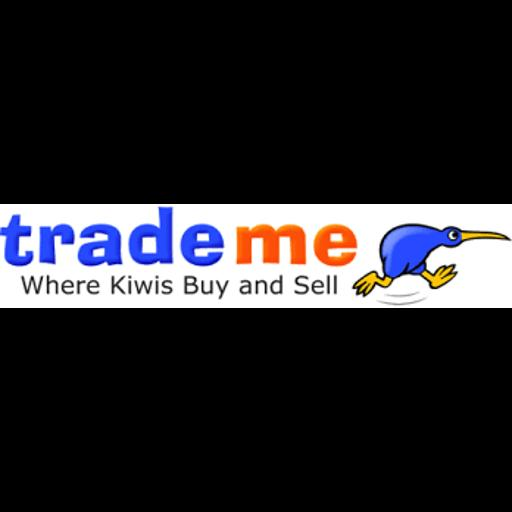Trade Me NZ: (0, 204, 512, 308)
